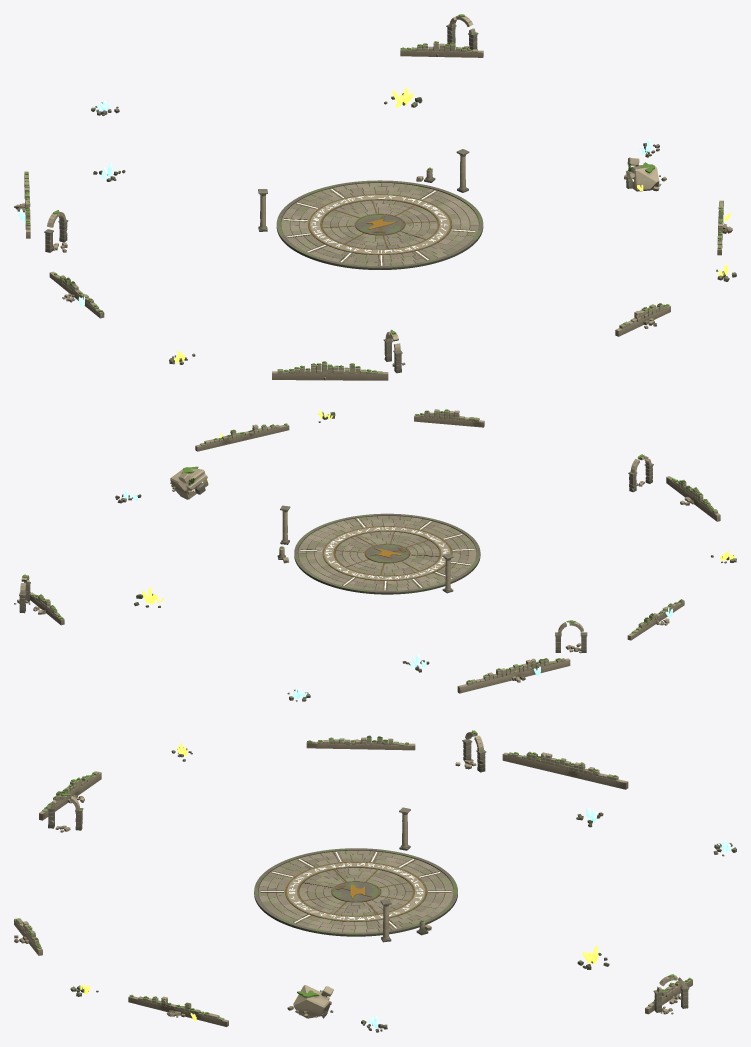
The model's file is LOBBY_SN_03_TOWN_06bf56.fbx.
The picture shows the model from 3 angles, top to bottom: view 1: azimuth 30°, elevation 25°; view 2: azimuth 150°, elevation 25°; view 3: azimuth 270°, elevation 25°; orthographic projection. The views are drawn at different scales.
Visible parts, largest first — view 1: WB_Town_Plaza__SNB_Plaza_1__SNB_Plaza_1, WB_Town_Plaza__SNB_Plaza_2__SNB_Plaza_2, WB_Prop_Ruins__SNB_Ruins__SNB_Ruins_g15_15, WB_Prop_Ruins__SNB_Ruins__SNB_Ruins_g15_16, WB_Prop_Ruins__SNB_Ruins__SNB_Ruins_g16_16, WB_Prop_Ruins__SNB_Ruins__SNB_Ruins_g16_15, WB_Town_Plaza__SN_Rune__SN_Rune, WB_Prop_Ruins__SNB_Ruins__SNB_Ruins_g16_14, WB_Prop_Ruins__SNB_Ruins__SNB_Ruins_g16_17; view 2: WB_Town_Plaza__SNB_Plaza_1__SNB_Plaza_1, WB_Town_Plaza__SNB_Plaza_2__SNB_Plaza_2, WB_Prop_Ruins__SNB_Ruins__SNB_Ruins_g15_16, WB_Prop_Ruins__SNB_Ruins__SNB_Ruins_g16_15, WB_Prop_Ruins__SNB_Ruins__SNB_Ruins_g15_15, WB_Prop_Ruins__SNB_Ruins__SNB_Ruins_g16_16, WB_Prop_Ruins__SNB_Ruins__SNB_Ruins_g16_14, WB_Town_Plaza__SN_Rune__SN_Rune, WB_Prop_Ruins__SNB_Ruins__SNB_Ruins_g16_17; view 3: WB_Town_Plaza__SNB_Plaza_1__SNB_Plaza_1, WB_Town_Plaza__SNB_Plaza_2__SNB_Plaza_2, WB_Prop_Ruins__SNB_Ruins__SNB_Ruins_g15_16, WB_Prop_Ruins__SNB_Ruins__SNB_Ruins_g16_15, WB_Prop_Ruins__SNB_Ruins__SNB_Ruins_g15_15, WB_Prop_Ruins__SNB_Ruins__SNB_Ruins_g16_16, WB_Town_Plaza__SN_Rune__SN_Rune, WB_Prop_Ruins__SNB_Ruins__SNB_Ruins_g14_16, WB_Prop_Ruins__SNB_Ruins__SNB_Ruins_g14_15, WB_Prop_Ruins__SNB_Ruins__SNB_Ruins_g16_17, WB_Prop_Ruins__SNB_Ruins__SNB_Ruins_g16_14.
Part boxes in pixels (<box>): WB_Town_Plaza__SNB_Plaza_1__SNB_Plaza_1: <box>280,183,479,265</box>; WB_Town_Plaza__SNB_Plaza_2__SNB_Plaza_2: <box>276,180,483,269</box>; WB_Prop_Ruins__SNB_Ruins__SNB_Ruins_g15_15: <box>192,329,405,380</box>; WB_Prop_Ruins__SNB_Ruins__SNB_Ruins_g15_16: <box>14,102,267,252</box>; WB_Prop_Ruins__SNB_Ruins__SNB_Ruins_g16_16: <box>384,15,651,192</box>; WB_Prop_Ruins__SNB_Ruins__SNB_Ruins_g16_15: <box>624,143,736,304</box>; WB_Town_Plaza__SN_Rune__SN_Rune: <box>283,189,475,265</box>; WB_Prop_Ruins__SNB_Ruins__SNB_Ruins_g16_14: <box>615,303,670,336</box>; WB_Prop_Ruins__SNB_Ruins__SNB_Ruins_g16_17: <box>400,14,481,56</box>; WB_Town_Plaza__SNB_Plaza_1__SNB_Plaza_1: <box>298,516,476,590</box>; WB_Town_Plaza__SNB_Plaza_2__SNB_Plaza_2: <box>294,513,480,594</box>; WB_Prop_Ruins__SNB_Ruins__SNB_Ruins_g15_16: <box>287,553,587,701</box>; WB_Prop_Ruins__SNB_Ruins__SNB_Ruins_g16_15: <box>115,411,417,503</box>; WB_Prop_Ruins__SNB_Ruins__SNB_Ruins_g15_15: <box>628,454,720,557</box>; WB_Prop_Ruins__SNB_Ruins__SNB_Ruins_g16_16: <box>17,494,290,619</box>; WB_Prop_Ruins__SNB_Ruins__SNB_Ruins_g16_14: <box>414,409,484,427</box>; WB_Town_Plaza__SN_Rune__SN_Rune: <box>300,518,474,590</box>; WB_Prop_Ruins__SNB_Ruins__SNB_Ruins_g16_17: <box>14,575,64,625</box>; WB_Town_Plaza__SNB_Plaza_1__SNB_Plaza_1: <box>258,850,453,932</box>; WB_Town_Plaza__SNB_Plaza_2__SNB_Plaza_2: <box>254,848,457,936</box>; WB_Prop_Ruins__SNB_Ruins__SNB_Ruins_g15_16: <box>399,730,736,856</box>; WB_Prop_Ruins__SNB_Ruins__SNB_Ruins_g16_15: <box>39,813,387,1032</box>; WB_Prop_Ruins__SNB_Ruins__SNB_Ruins_g15_15: <box>39,759,185,832</box>; WB_Prop_Ruins__SNB_Ruins__SNB_Ruins_g16_16: <box>361,899,690,1025</box>; WB_Town_Plaza__SN_Rune__SN_Rune: <box>260,852,451,928</box>; WB_Prop_Ruins__SNB_Ruins__SNB_Ruins_g14_16: <box>312,735,415,750</box>; WB_Prop_Ruins__SNB_Ruins__SNB_Ruins_g14_15: <box>171,737,410,757</box>; WB_Prop_Ruins__SNB_Ruins__SNB_Ruins_g16_17: <box>650,974,692,1014</box>; WB_Prop_Ruins__SNB_Ruins__SNB_Ruins_g16_14: <box>14,918,42,955</box>.
Size of the model in its own units: 280 by 21.15 by 293.
Materials: 6 (3 with a texture image).
